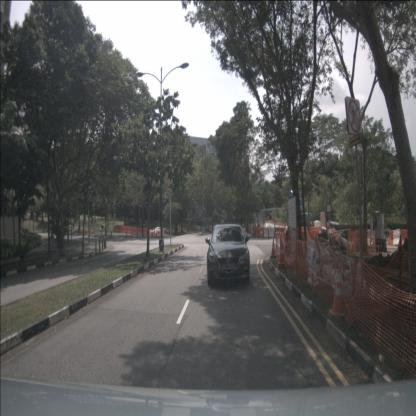movable_object-barrier: (401, 230, 415, 247), (312, 226, 325, 240), (391, 229, 401, 245), (275, 226, 285, 236), (388, 229, 393, 245), (303, 230, 310, 239), (113, 224, 120, 232), (142, 227, 148, 236), (263, 228, 268, 238), (268, 228, 274, 236), (130, 226, 135, 235), (120, 225, 125, 234), (136, 226, 141, 235), (125, 226, 130, 233), (258, 228, 262, 236), (253, 227, 256, 236)
movable_object-trafficcone: (328, 264, 346, 320), (277, 237, 287, 268), (269, 237, 276, 259), (383, 236, 387, 252)
vehicle-car: (207, 224, 250, 286)
